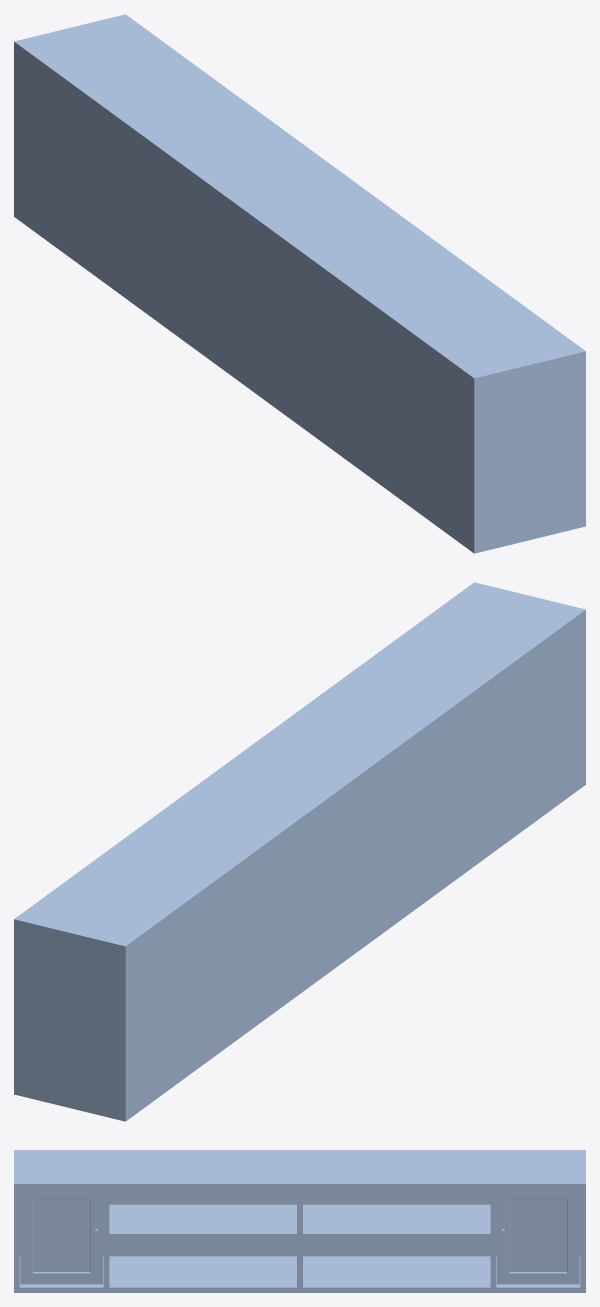
The model's file is tv-regal.fbx.
3 views of the same model, one above another, from view 1: azimuth 30°, elevation 25°; view 2: azimuth 150°, elevation 25°; view 3: azimuth 270°, elevation 25° (orthographic). The views are drawn at different scales.
Visible parts, largest first — view 1: Object_22.002; view 2: Object_22.002; view 3: Object_22.002, Object_23.002.
Part boxes in pixels (box(x1,y1,x2,y2)): Object_22.002: box(14, 14, 585, 553); Object_22.002: box(14, 582, 585, 1121); Object_22.002: box(14, 1150, 585, 1292); Object_23.002: box(20, 1189, 579, 1284).
Bounding box in the file's own units: 35 × 52.5 × 250.
